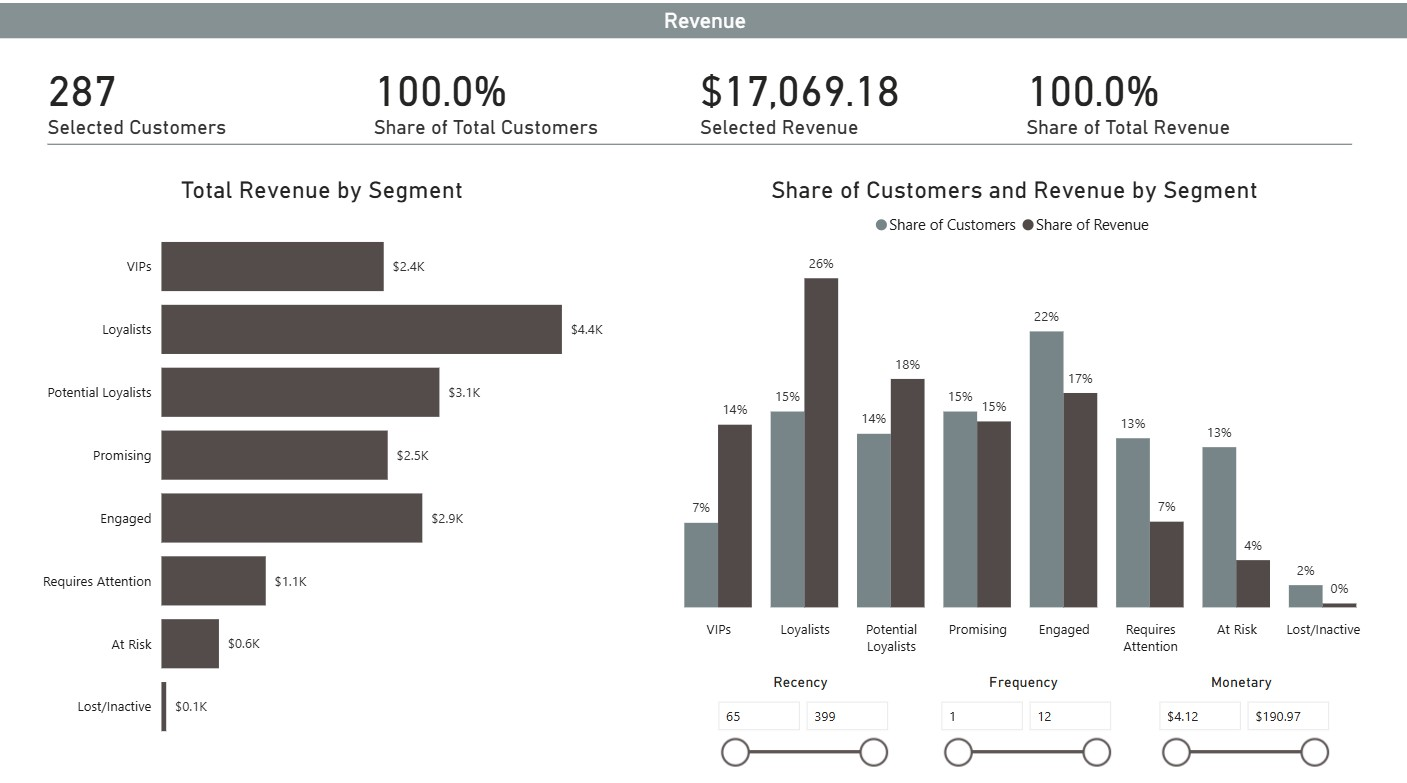

The page's visual inventory and layout, read from the dashboard file:
{"tool":"powerbi","page":{"name":"Revenue","canvas":[1280,720],"ordinal":1},"visuals":[{"type":"clusteredBarChart","title":"Total Revenue by Segment","fields":{"Category":["rfm_segments_final_denserank.rfm_segment"],"Y":["Sum(rfm_segments_final.monetary)"]},"box":[26.3,165.9,533.2,532.3],"z":0},{"type":"clusteredColumnChart","title":"Share of Customers and Revenue by Segment","fields":{"Category":["rfm_segments_final_denserank.rfm_segment"],"Y":["Divide(CountNonNull(rfm_segments_final.rfm_segment), ScopedEval(CountNonNull(rfm_segments_final.rfm_segment), []))","Sum(rfm_segments_final.monetary)"]},"box":[573.1,165.9,695.5,442.5],"z":1000},{"type":"multiRowCard","title":"Average Recency","fields":{"Values":["rfm_segments_final.selected_customers","rfm_segments_final.percent_of_selected_customers","rfm_segments_final.selected_sales","rfm_segments_final.percent_of_selected_sales"]},"box":[39,61.7,1193.4,88],"z":2000},{"type":"textbox","box":[0,9.1,1280.4,31.7],"z":3000},{"type":"slicer","title":"Monetary","fields":{"Values":["rfm_segments_final.monetary"]},"box":[1039.2,617.5,175,95.2],"z":4000},{"type":"slicer","title":"Frequency","fields":{"Values":["rfm_segments_final.frequency"]},"box":[841.5,617.5,175,95.2],"z":5000},{"type":"slicer","title":"Recency","fields":{"Values":["rfm_segments_final.recency"]},"box":[639.3,617.5,175,95.2],"z":6000}]}

Visuals, with their boxes in screenshot pixels (x1, y1, x2, y2), scaled from the page's 1280x720 canvas onto the 1407x783 screenshot:
"Total Revenue by Segment" clusteredBarChart: [x1=29, y1=180, x2=615, y2=759]
"Share of Customers and Revenue by Segment" clusteredColumnChart: [x1=630, y1=180, x2=1394, y2=662]
"Average Recency" multiRowCard: [x1=43, y1=67, x2=1355, y2=163]
textbox: [x1=0, y1=10, x2=1406, y2=44]
"Monetary" slicer: [x1=1142, y1=672, x2=1335, y2=775]
"Frequency" slicer: [x1=925, y1=672, x2=1117, y2=775]
"Recency" slicer: [x1=703, y1=672, x2=895, y2=775]
